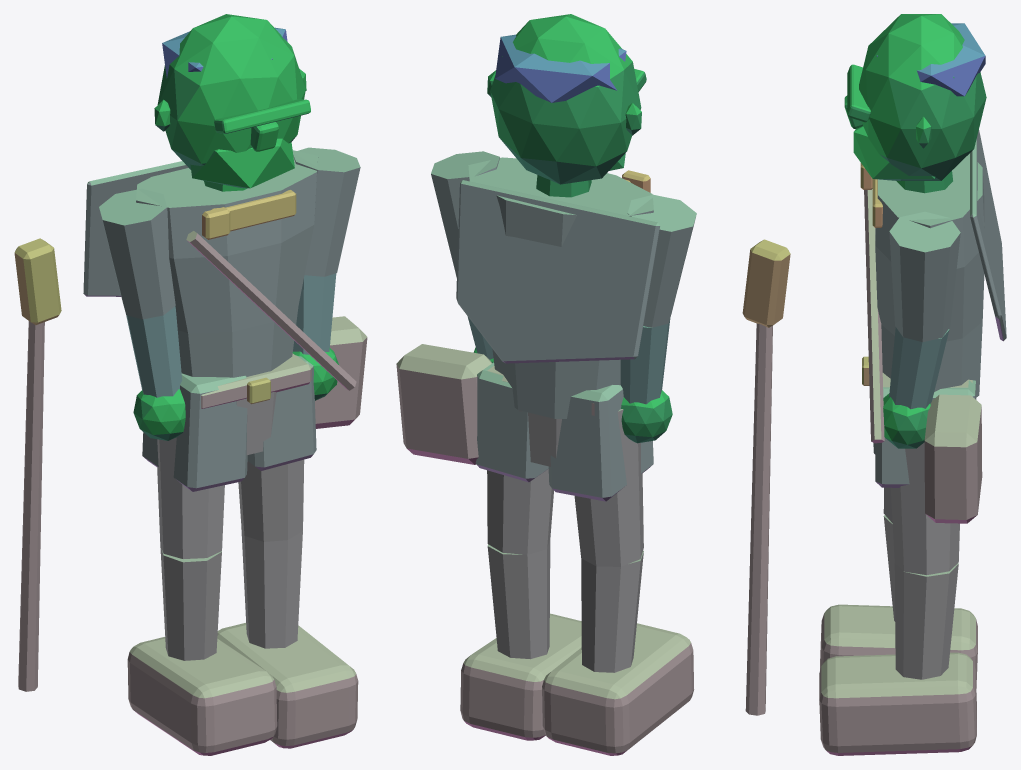
The model's file is npc_scout_down_r_v01.glb.
3 views of the same model, side by side, from view 1: azimuth 30°, elevation 25°; view 2: azimuth 150°, elevation 25°; view 3: azimuth 270°, elevation 25° (orthographic).
Visible parts, largest first — view 1: GEO_npc_scout_down_r_v01; view 2: GEO_npc_scout_down_r_v01; view 3: GEO_npc_scout_down_r_v01.
Part boxes in pixels (bbox=[...]): GEO_npc_scout_down_r_v01: bbox=[14, 14, 367, 755]; GEO_npc_scout_down_r_v01: bbox=[396, 14, 790, 755]; GEO_npc_scout_down_r_v01: bbox=[819, 14, 1006, 755].
Bounding box in the file's own units: 1.1 × 2.06 × 0.4961.
